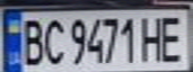1: (118, 14, 139, 63)
4: (84, 15, 106, 65)
7: (103, 15, 121, 64)
9: (66, 15, 87, 65)
B: (18, 15, 45, 67)
C: (39, 15, 66, 66)
E: (157, 11, 190, 63)
H: (139, 12, 166, 63)
